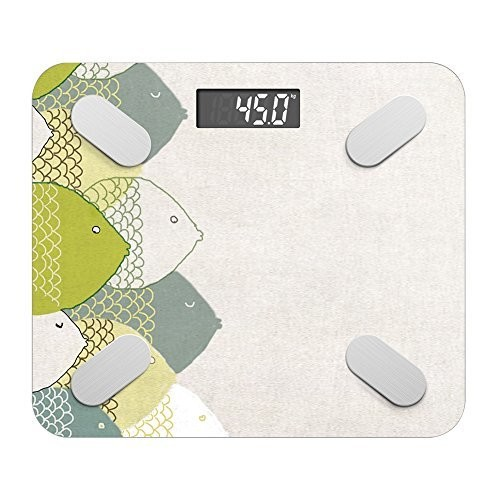LCD: (195, 87, 302, 129)
